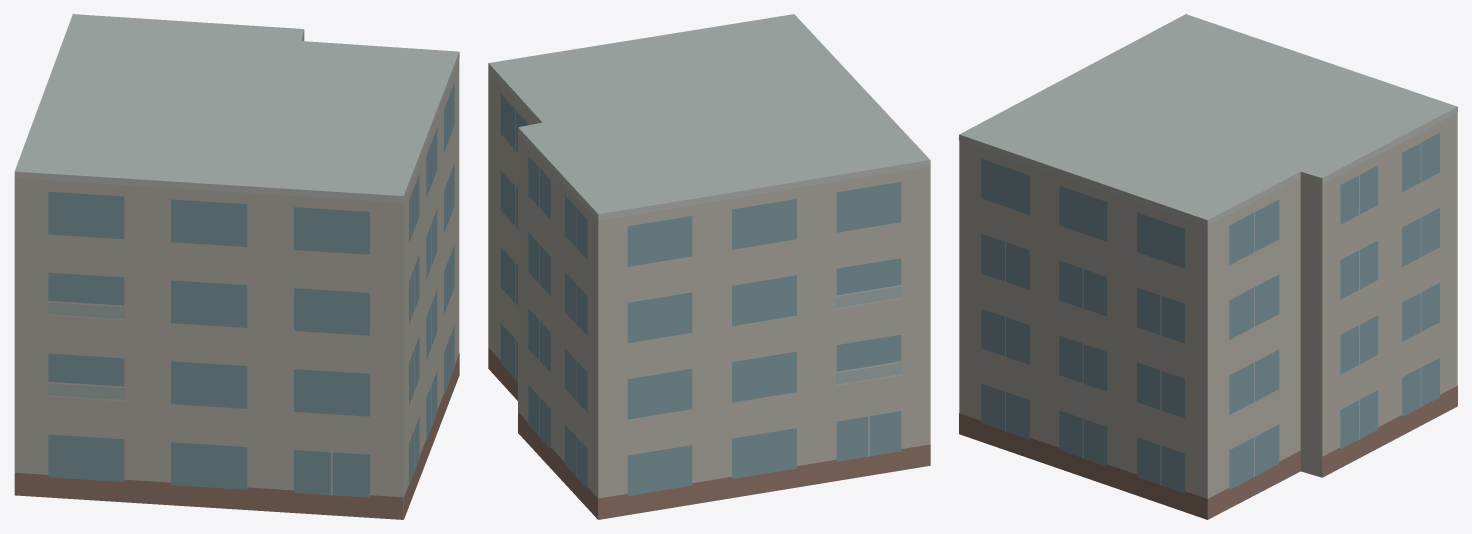
File: survey-upis-32534668.glb
3 views of the same model, side by side, from view 1: azimuth 30°, elevation 25°; view 2: azimuth 150°, elevation 25°; view 3: azimuth 270°, elevation 25° (orthographic). The views are drawn at different scales.
Visible parts, largest first — view 1: survey-upis-32534668.tmp; view 2: survey-upis-32534668.tmp; view 3: survey-upis-32534668.tmp.
Boxes of the visible parts, box(x1,y1,x2,y2) form: survey-upis-32534668.tmp: box(14, 14, 459, 519); survey-upis-32534668.tmp: box(488, 14, 930, 519); survey-upis-32534668.tmp: box(959, 14, 1457, 519).
Size of the model in its own units: 17.5 by 11.85 by 17.87.
